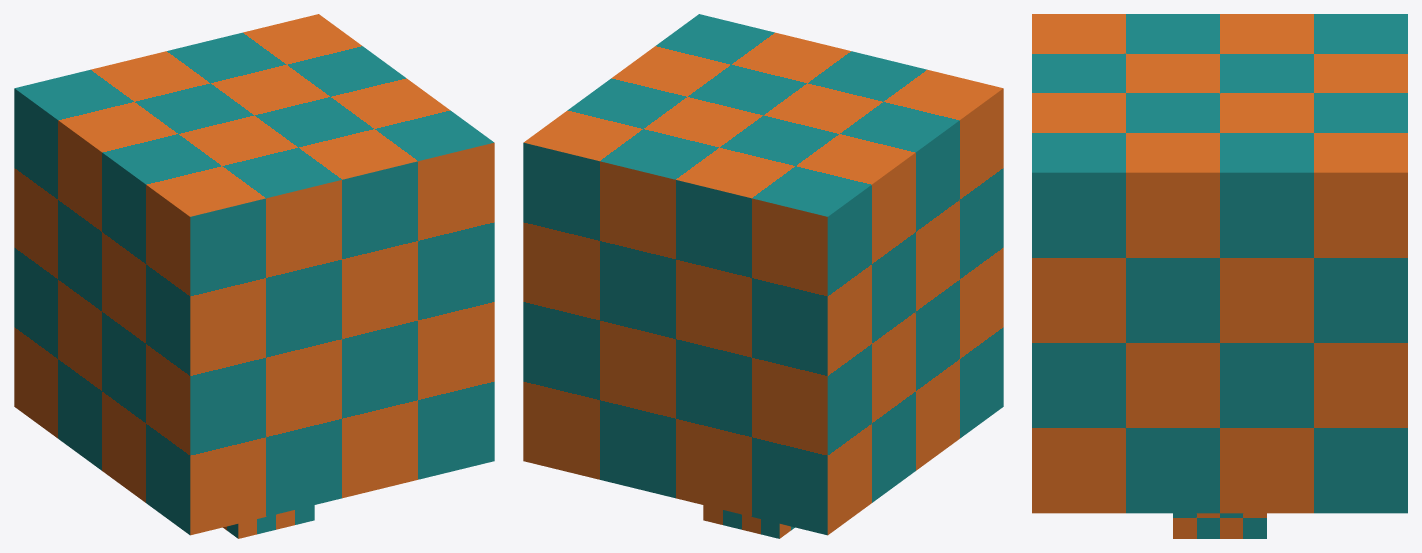
Rendered from cube-parts.glb.
3 views of the same model, side by side, from view 1: azimuth 30°, elevation 25°; view 2: azimuth 150°, elevation 25°; view 3: azimuth 270°, elevation 25° (orthographic). The views are drawn at different scales.
Parts seen in each view (by area): view 1: body, legs; view 2: body, legs; view 3: body, legs.
Part boxes in pixels (box(x1,y1,x2,y2)): body: box(14, 14, 494, 535); legs: box(223, 505, 314, 538); body: box(523, 14, 1003, 535); legs: box(703, 505, 794, 538); body: box(1032, 14, 1407, 513); legs: box(1173, 513, 1266, 538).
Size of the model in its own units: 1 by 1.25 by 1.
Materials: 2 (2 with a texture image).
